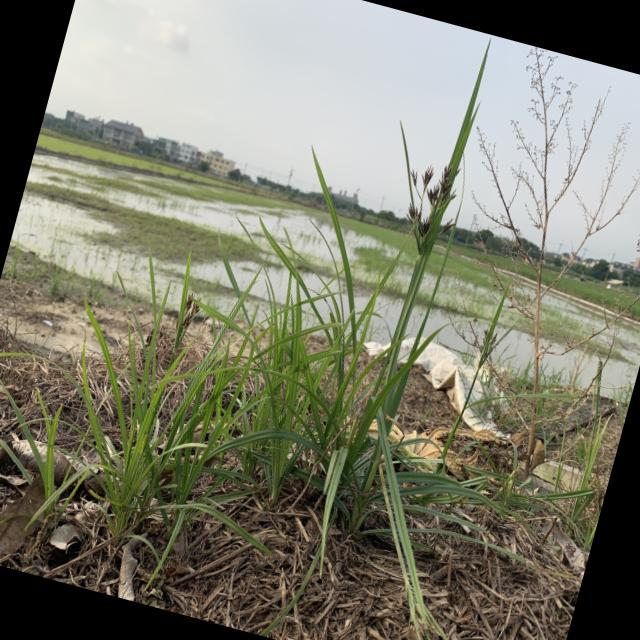cyperus: (384, 146, 475, 265), (450, 308, 506, 377), (172, 284, 208, 342)
